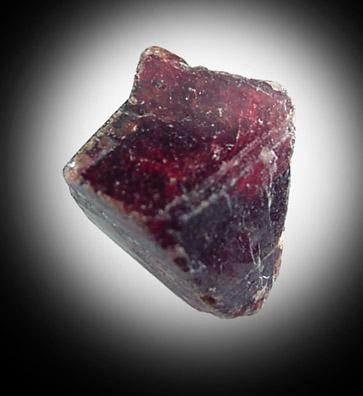tantalite: (63, 46, 294, 317)
